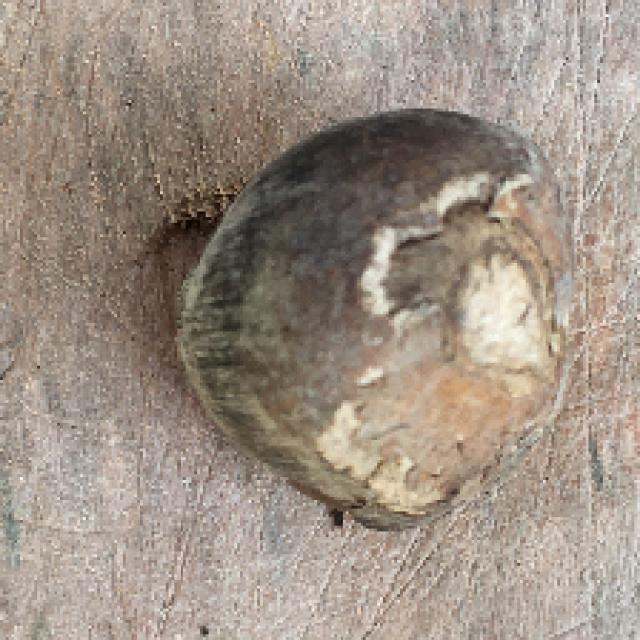damagedHazelnut: (156, 99, 581, 536)
